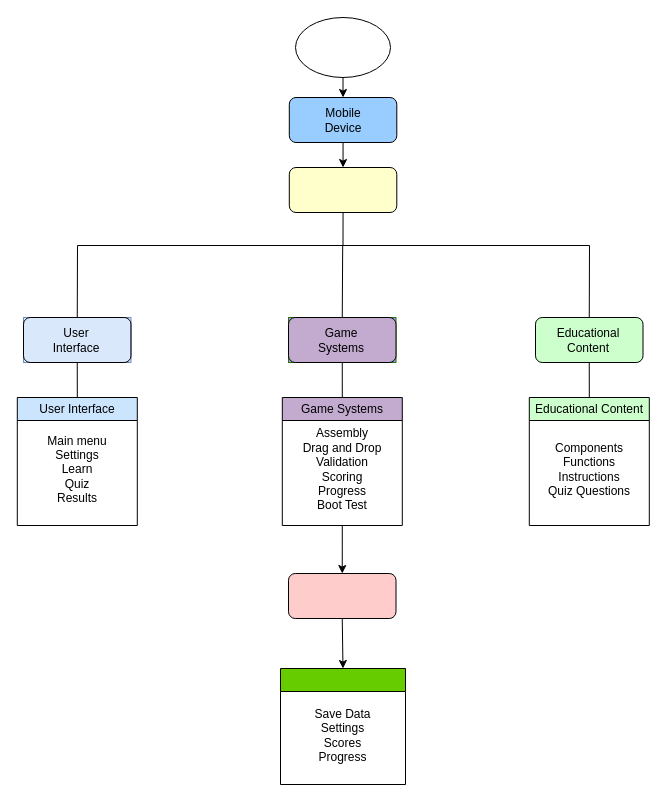
Some shapes in this 667 by 802 pixel diagram are drawn without their labels. Here are the shapes that lost their labels. From the top down, the box of each, then its label:
(294, 16, 390, 78): USER
(288, 166, 397, 212): Game Client
(288, 572, 396, 618): Game State Manager
(280, 668, 406, 784): Local Storage
